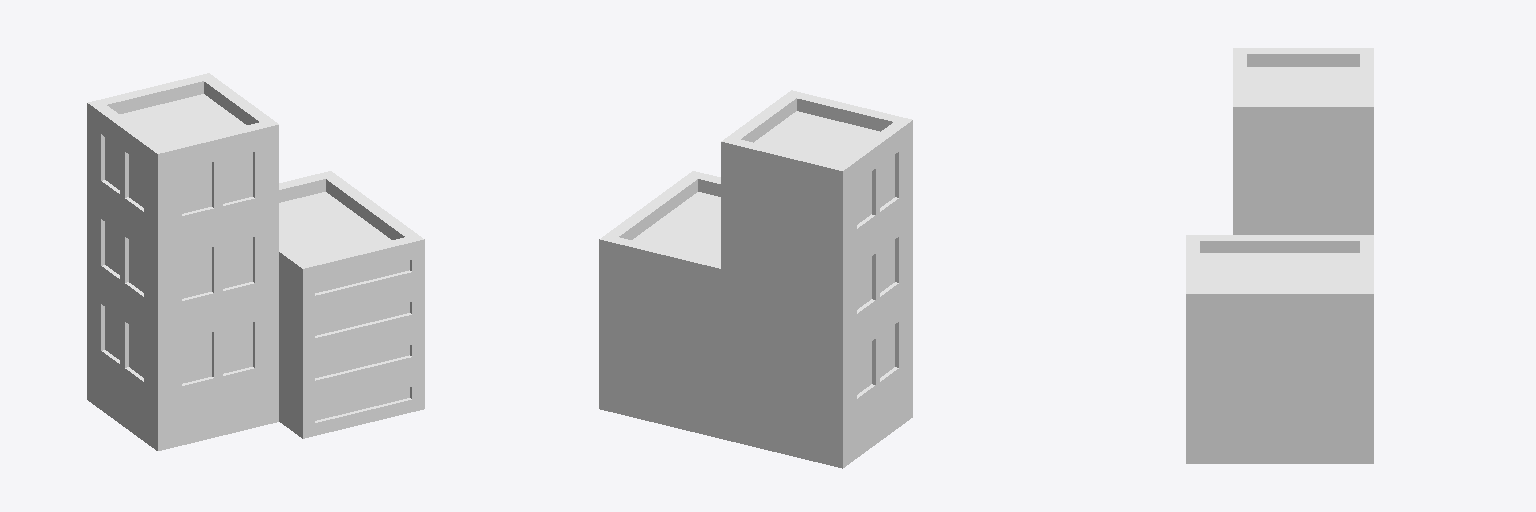
The model's file is House03.obj.
3 views of the same model, side by side, from view 1: azimuth 30°, elevation 25°; view 2: azimuth 150°, elevation 25°; view 3: azimuth 270°, elevation 25° (orthographic).
Parts seen in each view (by area): view 1: object 1; view 2: object 1; view 3: object 1.
Part boxes in pixels (x1,y1,x2,y2): object 1: (87, 73, 424, 450); object 1: (599, 90, 912, 468); object 1: (1186, 48, 1373, 463).
Size of the model in its own units: 6 by 7 by 4.